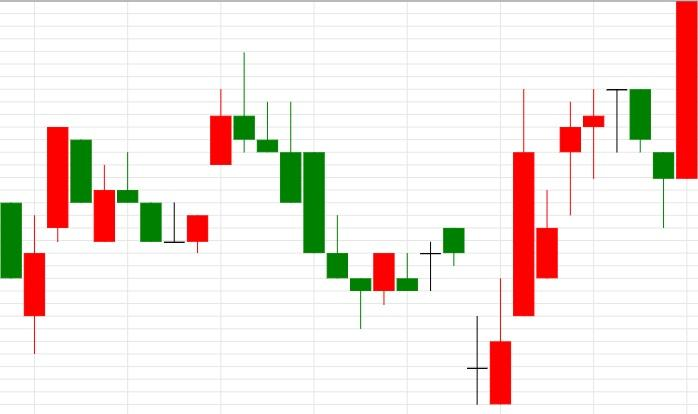evening_star_fall: (489, 88, 652, 405)
hammer_rise: (233, 53, 372, 329), (606, 88, 675, 228)
morning_star_rise: (46, 126, 209, 253)
three_black_crows_fall: (186, 53, 302, 253)
